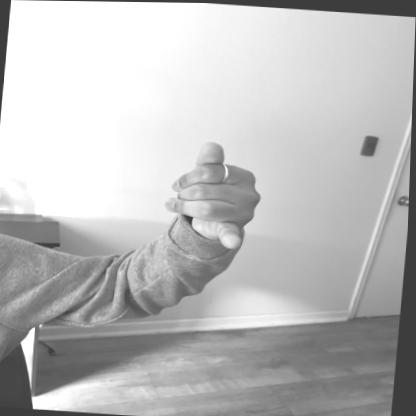Z: (158, 133, 269, 256)
